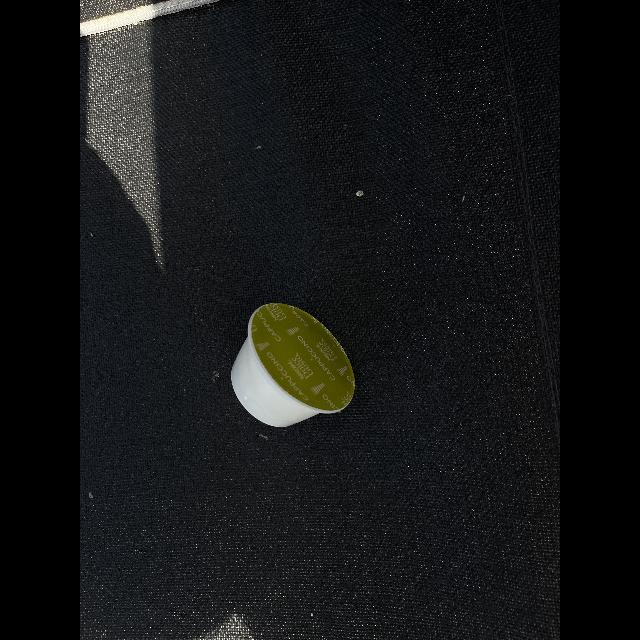intact_capsule: (223, 294, 363, 440)
